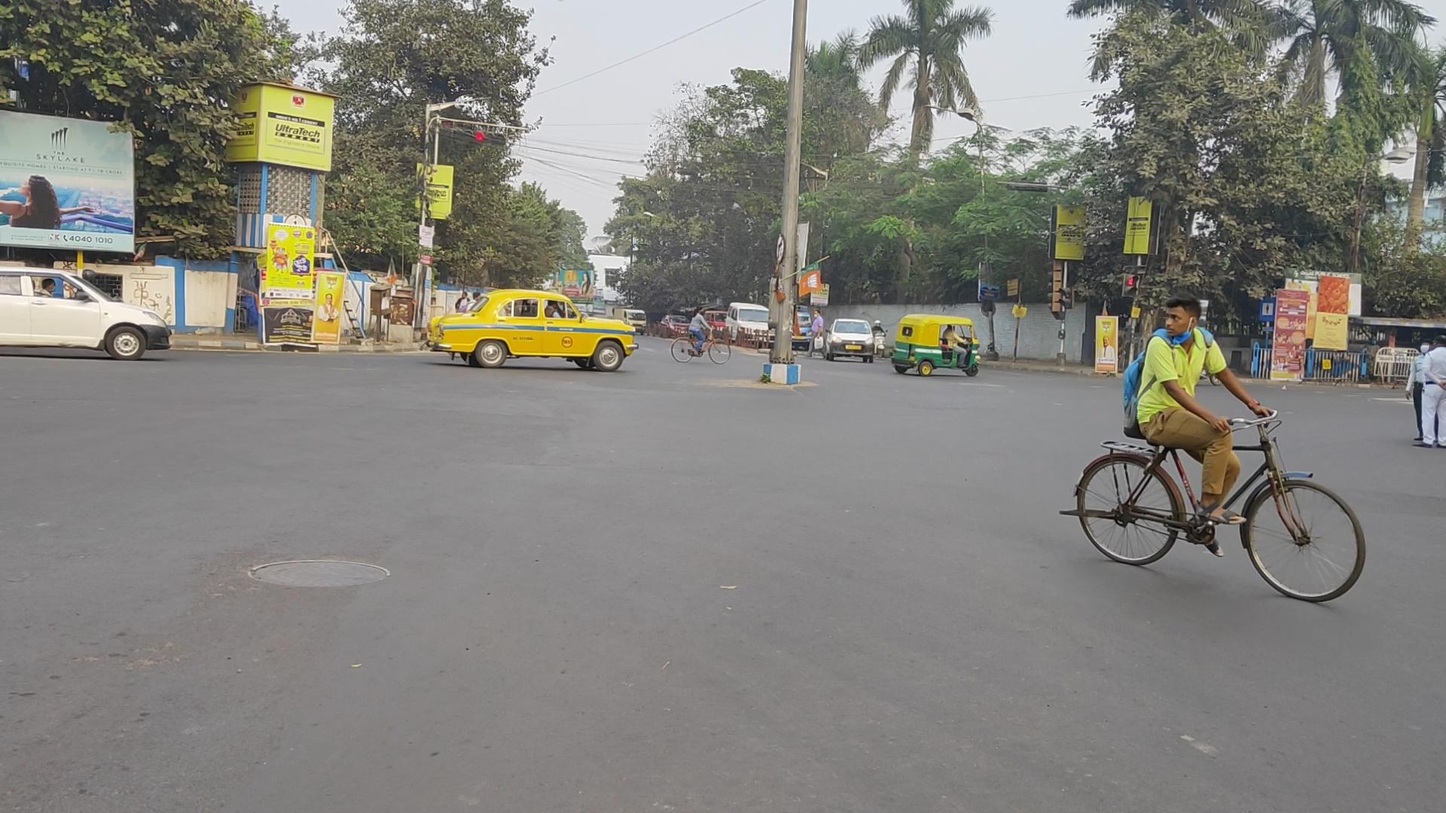Auto: (892, 313, 982, 377)
bike: (1059, 294, 1366, 604), (672, 306, 731, 364), (871, 320, 888, 359)
car: (425, 289, 639, 373), (1, 266, 172, 360), (824, 317, 875, 364), (727, 301, 774, 346), (657, 315, 692, 340), (703, 309, 728, 340)
van: (791, 304, 814, 355), (613, 306, 647, 335)
